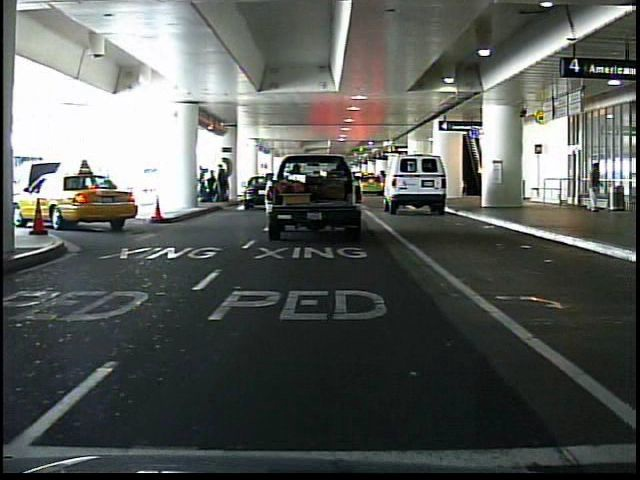person: (582, 160, 605, 216)
